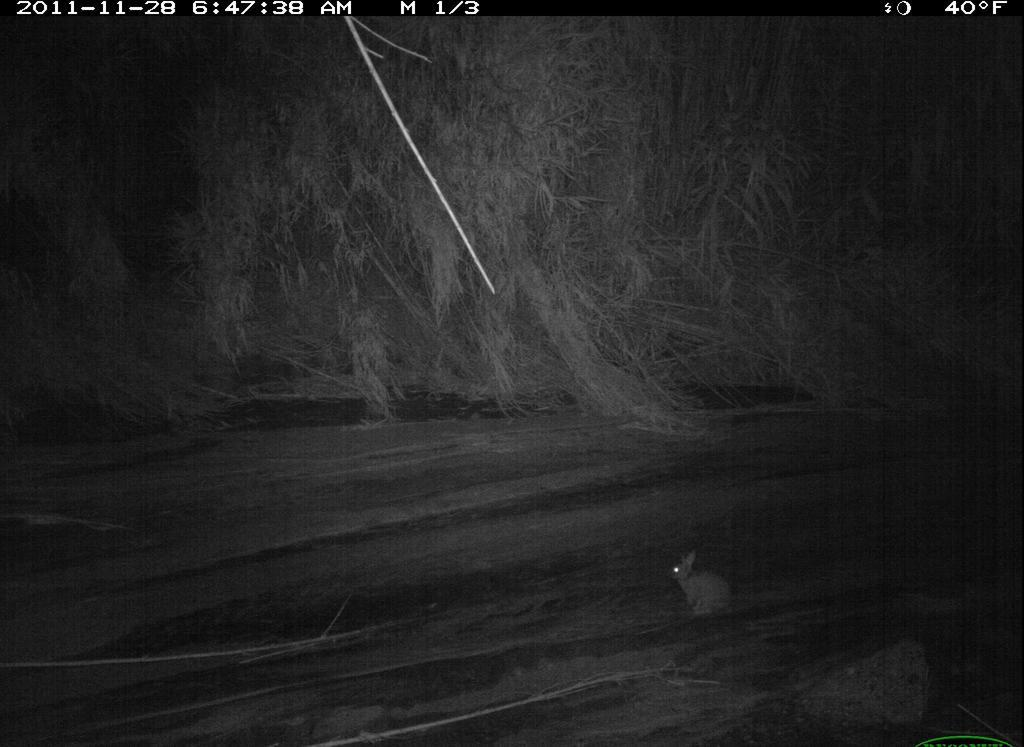rabbit: (652, 545, 744, 625)
